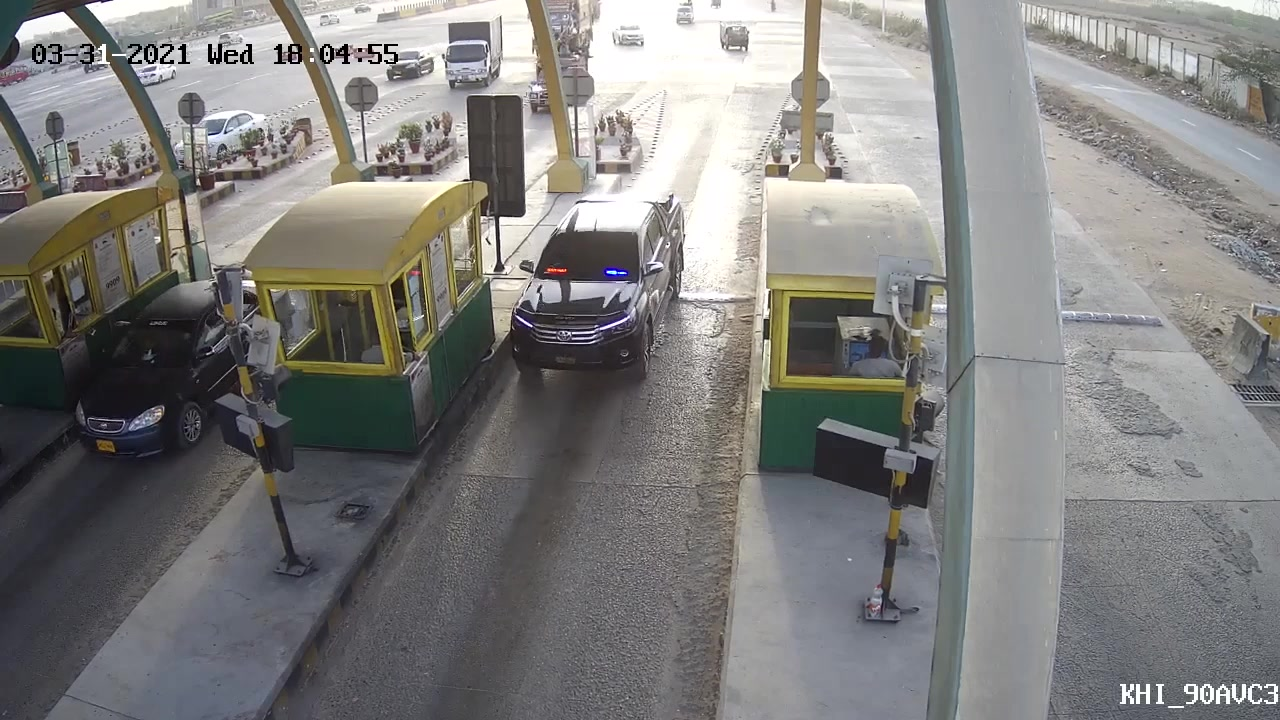F1: (502, 191, 694, 392)
